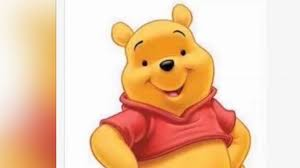Winnie: (100, 5, 236, 139)
